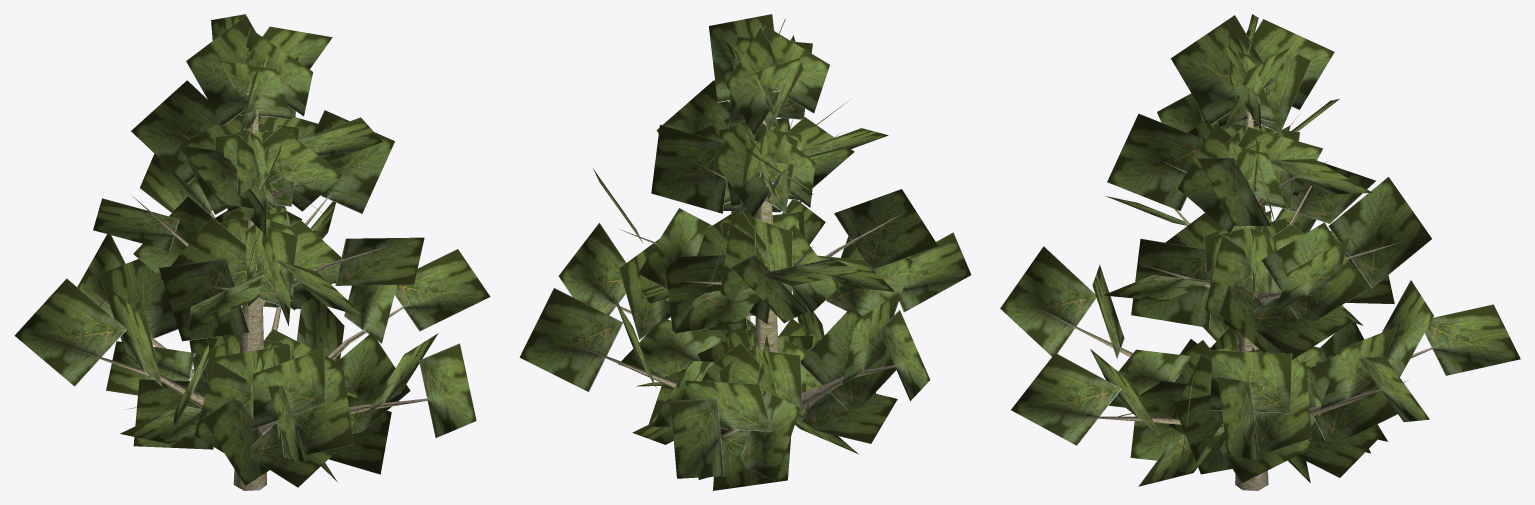
Rendered from spruce_tree.fbx.
3 views of the same model, side by side, from view 1: azimuth 30°, elevation 25°; view 2: azimuth 150°, elevation 25°; view 3: azimuth 270°, elevation 25° (orthographic). The views are drawn at different scales.
Visible parts, largest first — view 1: Tree_1, Tree_0; view 2: Tree_1, Tree_0; view 3: Tree_1, Tree_0.
Part boxes in pixels (box(x1,y1,x2,y2)): Tree_1: box(14, 14, 490, 487); Tree_0: box(65, 94, 427, 490); Tree_1: box(519, 14, 971, 490); Tree_0: box(574, 76, 902, 442); Tree_1: box(1000, 14, 1520, 486); Tree_0: box(1039, 54, 1432, 490).
Bounding box in the file's own units: 767 × 796 × 805.
